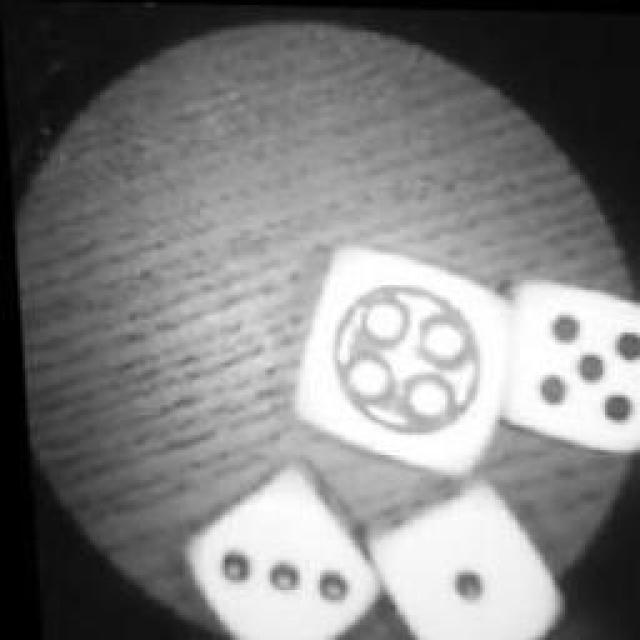dice_1: (361, 472, 574, 640)
dice_3: (166, 455, 379, 640)
dice_5: (277, 232, 515, 482), (485, 270, 640, 462)
